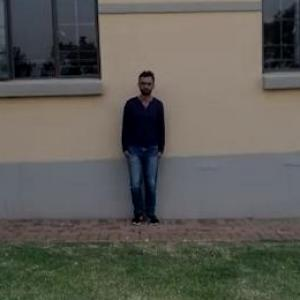follow: (120, 68, 166, 224)
